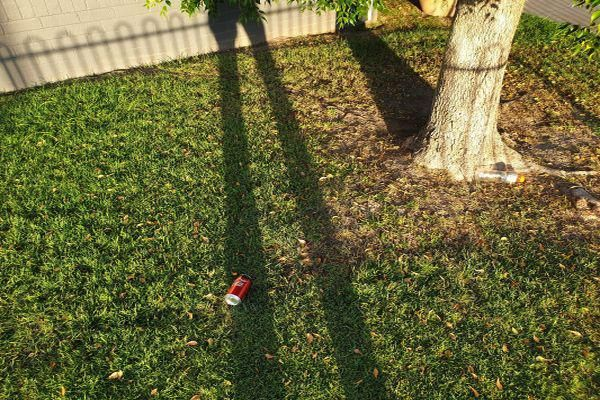Plastic Bottle: (225, 273, 253, 306), (478, 170, 525, 184)
